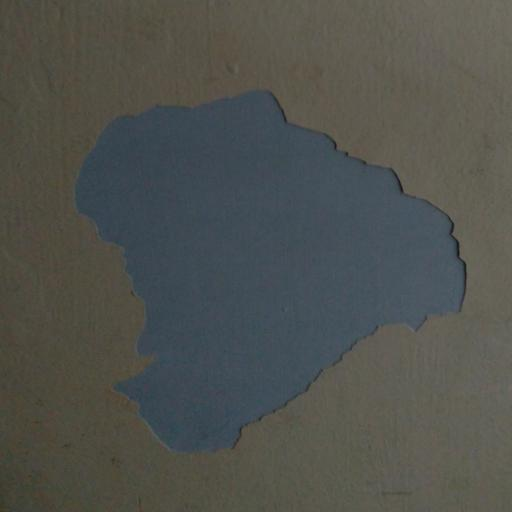peeling: (66, 90, 488, 465)
